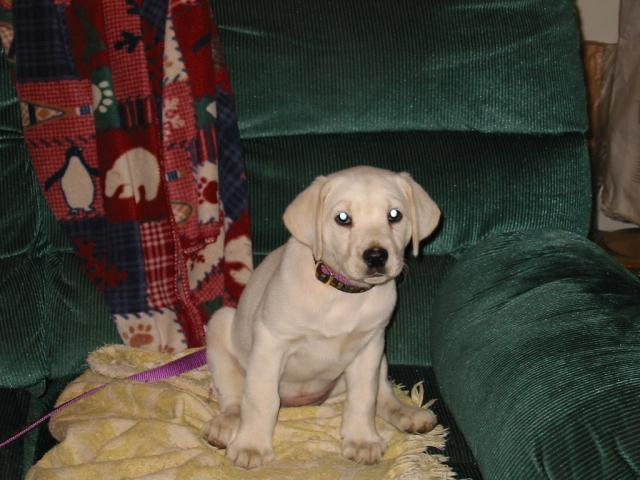Dog: (202, 171, 442, 470)
